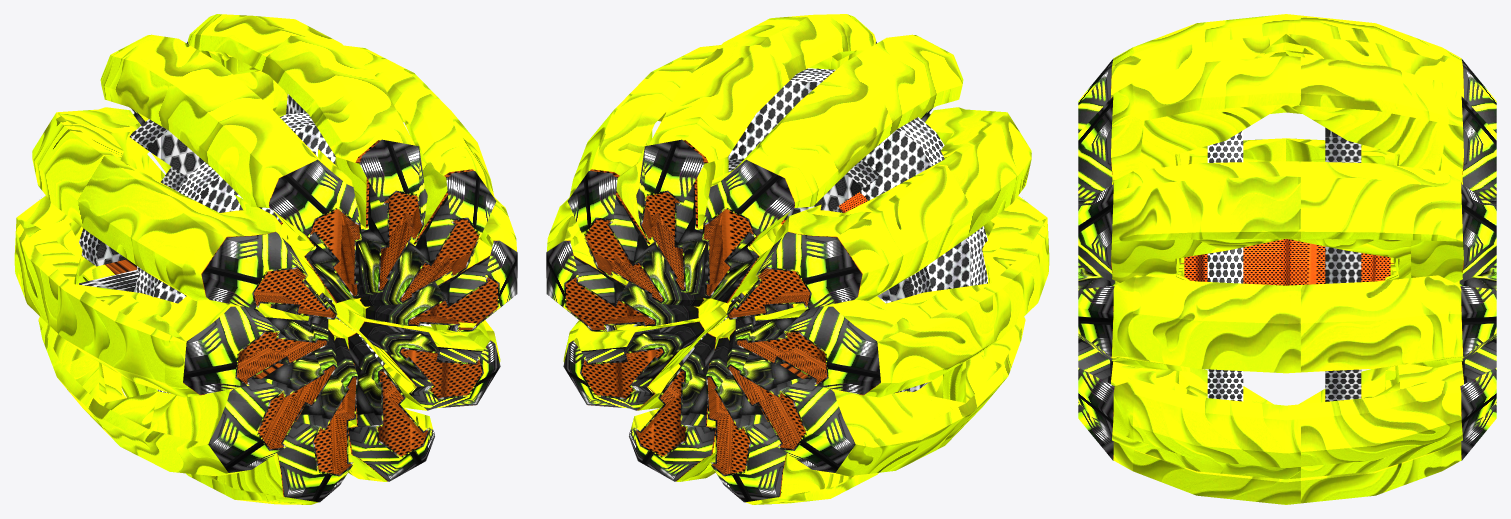
Rendered from RollingBalls_Sci-fi_2_1.glb.
3 renders of one model, left to right at view 1: azimuth 30°, elevation 25°; view 2: azimuth 150°, elevation 25°; view 3: azimuth 270°, elevation 25°, orthographic. The views are drawn at different scales.
Visible parts, largest first — view 1: RollingBalls_Sci-fi_2_1; view 2: RollingBalls_Sci-fi_2_1; view 3: RollingBalls_Sci-fi_2_1.
Boxes of the visible parts, x1=… form: RollingBalls_Sci-fi_2_1: x1=14, y1=14, x2=517, y2=504; RollingBalls_Sci-fi_2_1: x1=546, y1=14, x2=1049, y2=504; RollingBalls_Sci-fi_2_1: x1=1078, y1=14, x2=1496, y2=504.
Size of the model in its own units: 1.64 by 1.64 by 1.41.
Materials: 4 (4 with a texture image).
